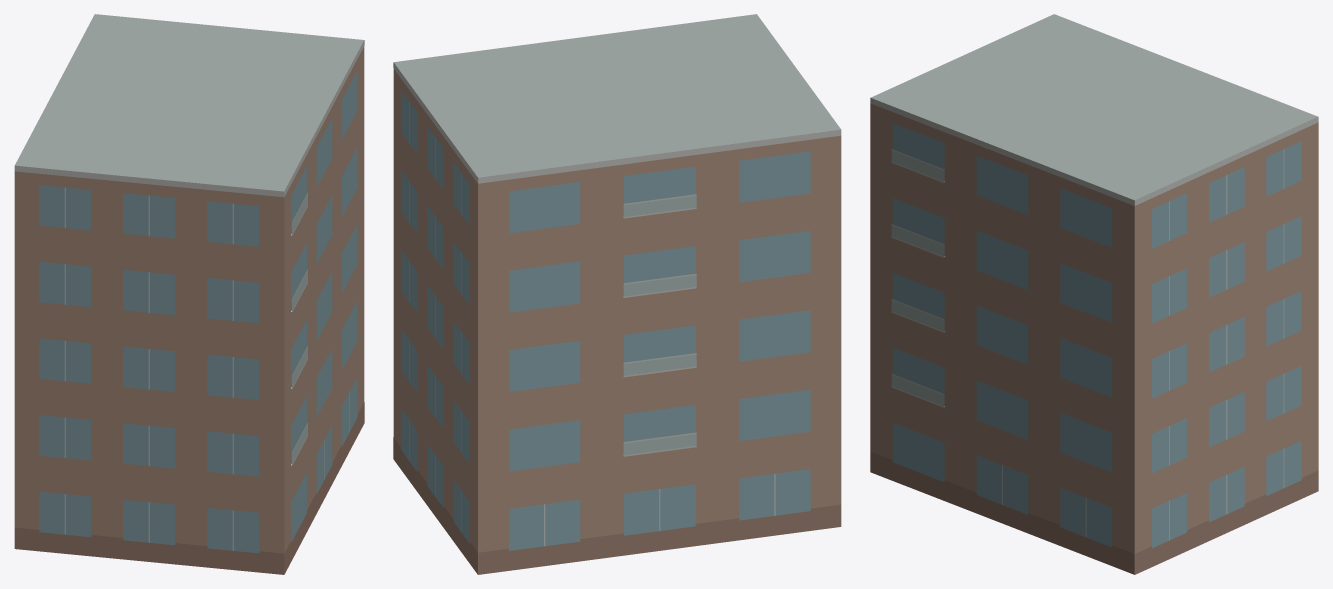
File: survey-upis-32624691.glb
3 renders of one model, left to right at view 1: azimuth 30°, elevation 25°; view 2: azimuth 150°, elevation 25°; view 3: azimuth 270°, elevation 25°, orthographic. The views are drawn at different scales.
Visible parts, largest first — view 1: survey-upis-32624691.tmp; view 2: survey-upis-32624691.tmp; view 3: survey-upis-32624691.tmp.
Boxes of the visible parts, x1=… form: survey-upis-32624691.tmp: x1=14, y1=14, x2=364, y2=574; survey-upis-32624691.tmp: x1=393, y1=14, x2=841, y2=574; survey-upis-32624691.tmp: x1=870, y1=14, x2=1318, y2=574.
Size of the model in its own units: 17.41 by 16.3 by 17.68.
